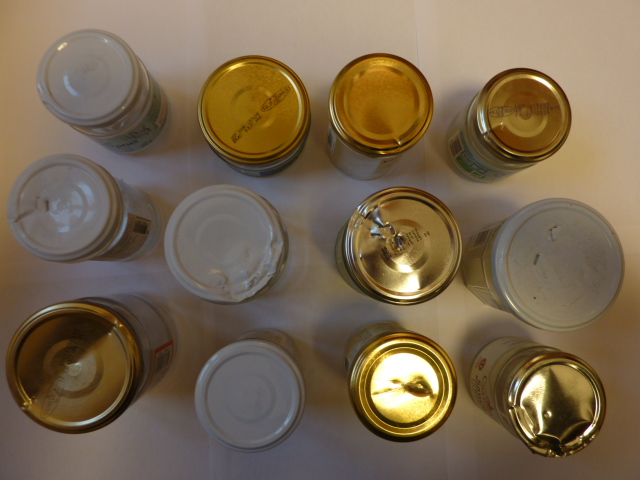damaged: (5, 302, 144, 435), (495, 199, 624, 330), (162, 186, 288, 303), (344, 186, 463, 307), (330, 52, 435, 157), (35, 29, 140, 125), (476, 68, 571, 162)
intact: (197, 55, 309, 163)
